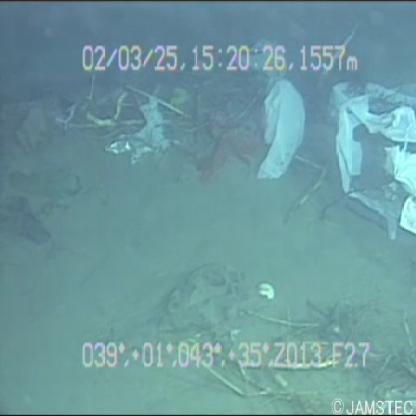Rác: (324, 59, 416, 253), (223, 35, 308, 195)
